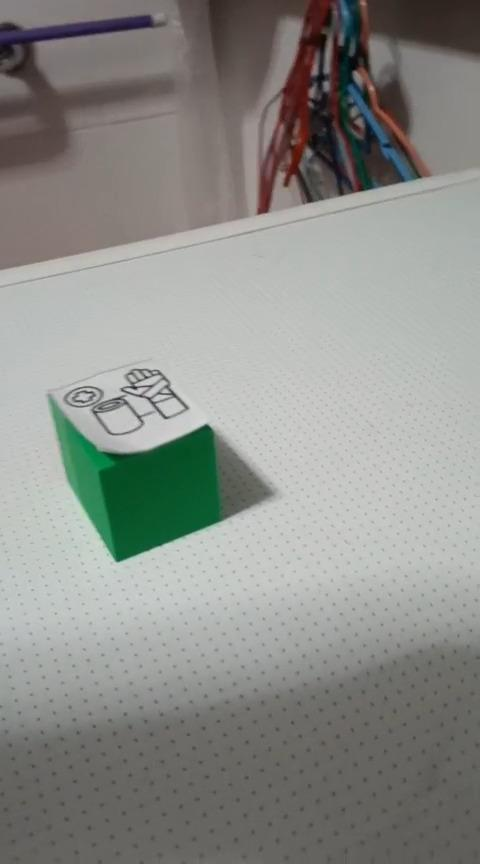Bandages: (45, 358, 223, 562)
